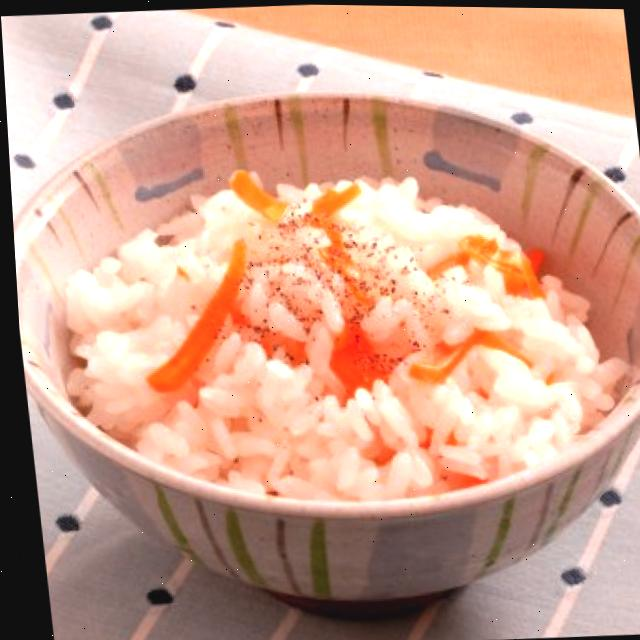米饭主食: (39, 158, 629, 510)
